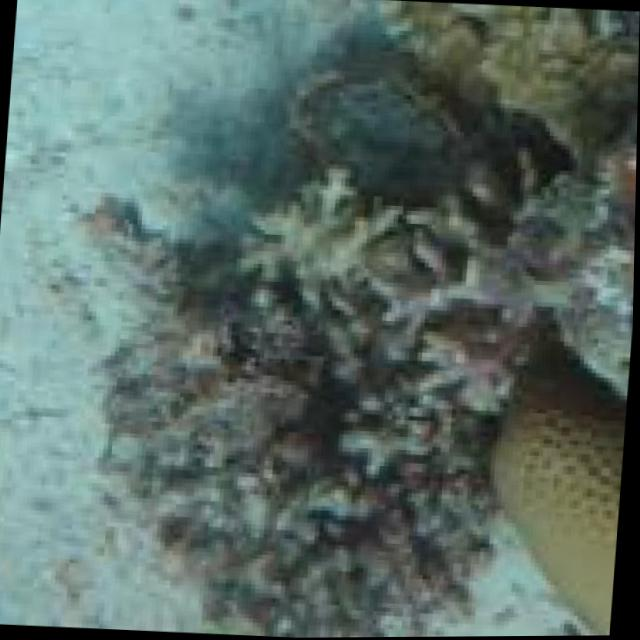Bleached Coral: (256, 144, 397, 330)
